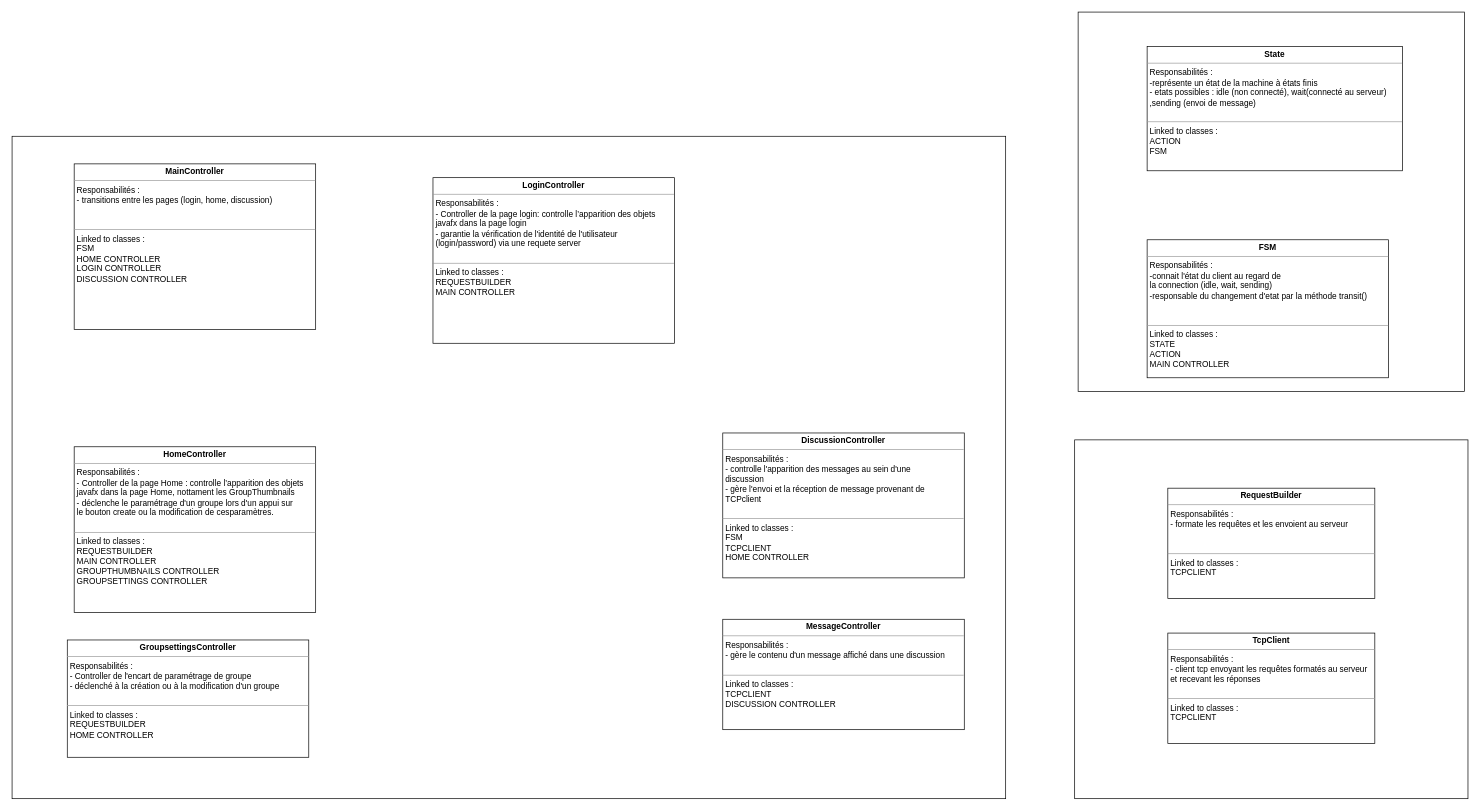
Some shapes in this 1480 by 811 pixel diagram are drawn without their labels. The shapes that lost their labels are listed below. From the top down, each one's box as (x1, y1, x2, y2) in pixels, then its label:
(1077, 11, 1465, 392): MACHINE A ETATS FINIS
(11, 136, 1006, 799): AFFICHAGE
(1074, 439, 1468, 799): REQUETES
